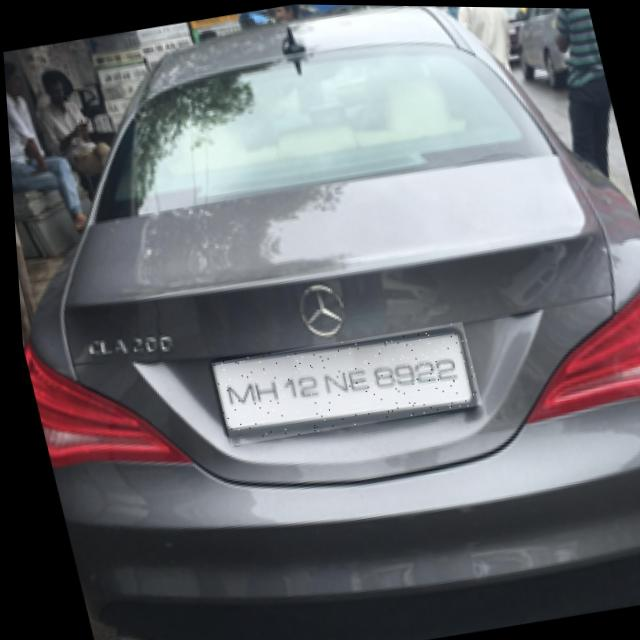license_plate: (203, 317, 479, 447)
